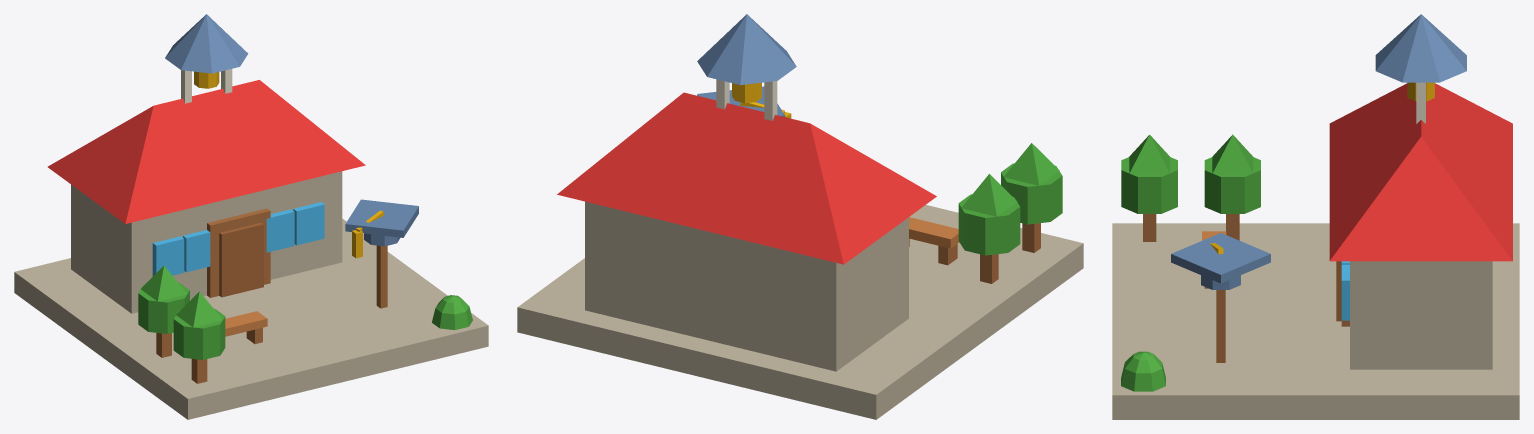
File: university_t1_v2.glb
The picture shows the model from 3 angles, left to right: view 1: azimuth 30°, elevation 25°; view 2: azimuth 150°, elevation 25°; view 3: azimuth 270°, elevation 25°; orthographic projection. The views are drawn at different scales.
Visible parts, largest first — view 1: university_t1_v2; view 2: university_t1_v2; view 3: university_t1_v2.
Boxes of the visible parts, x1,y1,x2,y2 form: university_t1_v2: [14, 14, 488, 419]; university_t1_v2: [517, 14, 1083, 419]; university_t1_v2: [1112, 14, 1519, 419].
Size of the model in its own units: 0.6 by 0.52 by 0.6.
Materials: 1 (1 with a texture image).
